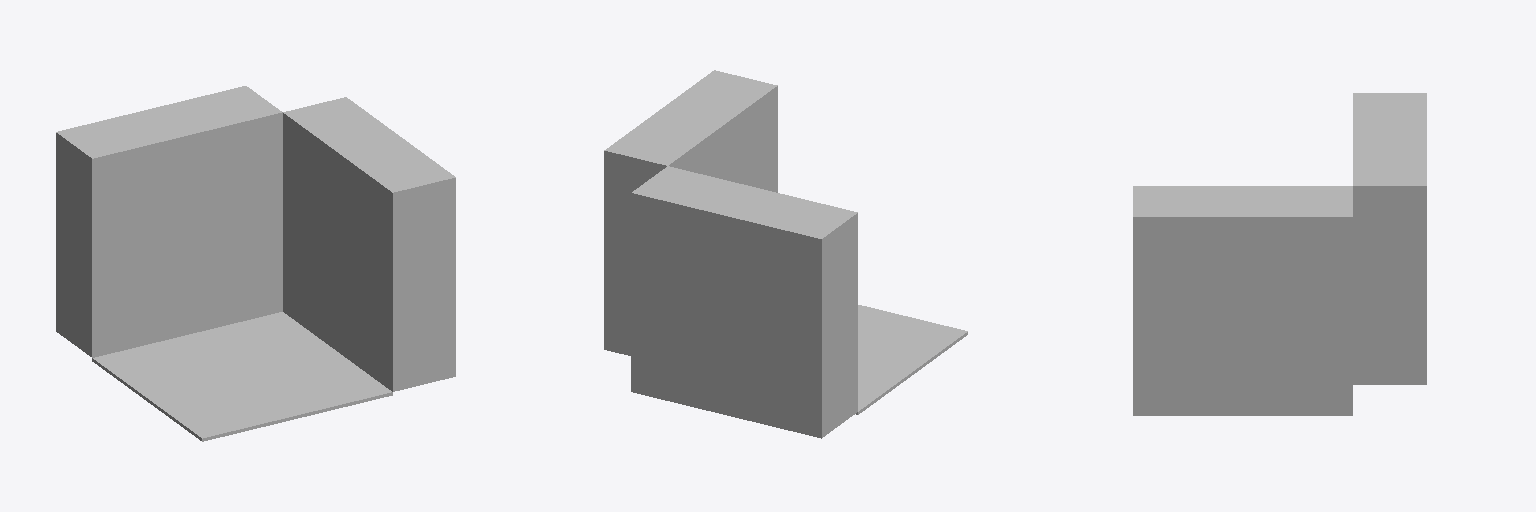
Rendered from inter_r.obj.
3 views of the same model, side by side, from view 1: azimuth 30°, elevation 25°; view 2: azimuth 150°, elevation 25°; view 3: azimuth 270°, elevation 25° (orthographic).
Parts seen in each view (by area): view 1: Cube, Cube.1, Cube.2; view 2: Cube, Cube.1, Cube.2; view 3: Cube.1, Cube.
Part boxes in pixels (x1,y1,x2,y2): Cube: (56, 86, 282, 357); Cube.1: (283, 97, 455, 391); Cube.2: (92, 312, 392, 441); Cube: (631, 166, 857, 438); Cube.1: (604, 70, 777, 355); Cube.2: (856, 305, 967, 414); Cube.1: (1133, 186, 1352, 415); Cube: (1353, 93, 1426, 384).
Bounding box in the file's own units: 8 × 6.1 × 8.